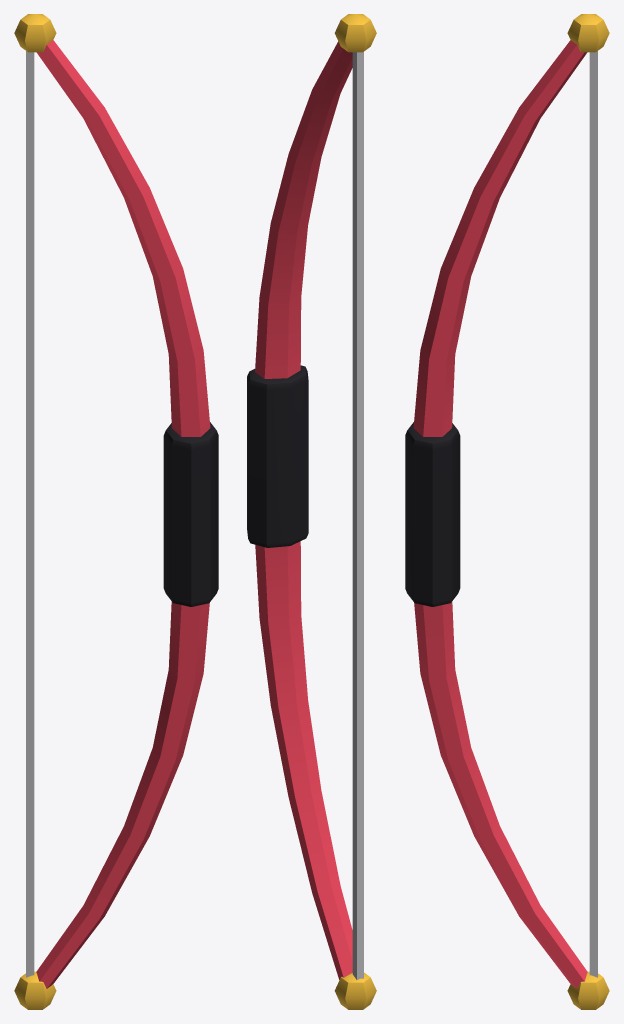
Rendered from RubyBow.fbx.
3 renders of one model, left to right at view 1: azimuth 90°, elevation 25°; view 2: azimuth 210°, elevation 25°; view 3: azimuth 270°, elevation 25°, orthographic.
Parts seen in each view (by area): view 1: RubyBow; view 2: RubyBow; view 3: RubyBow.
Part boxes in pixels (box(x1,y1,x2,y2)): RubyBow: box(14, 14, 218, 1009); RubyBow: box(247, 14, 376, 1009); RubyBow: box(405, 14, 609, 1009).
Bounding box in the file's own units: 0.26 × 4.16 × 0.774.
1 material, 1 textured.
